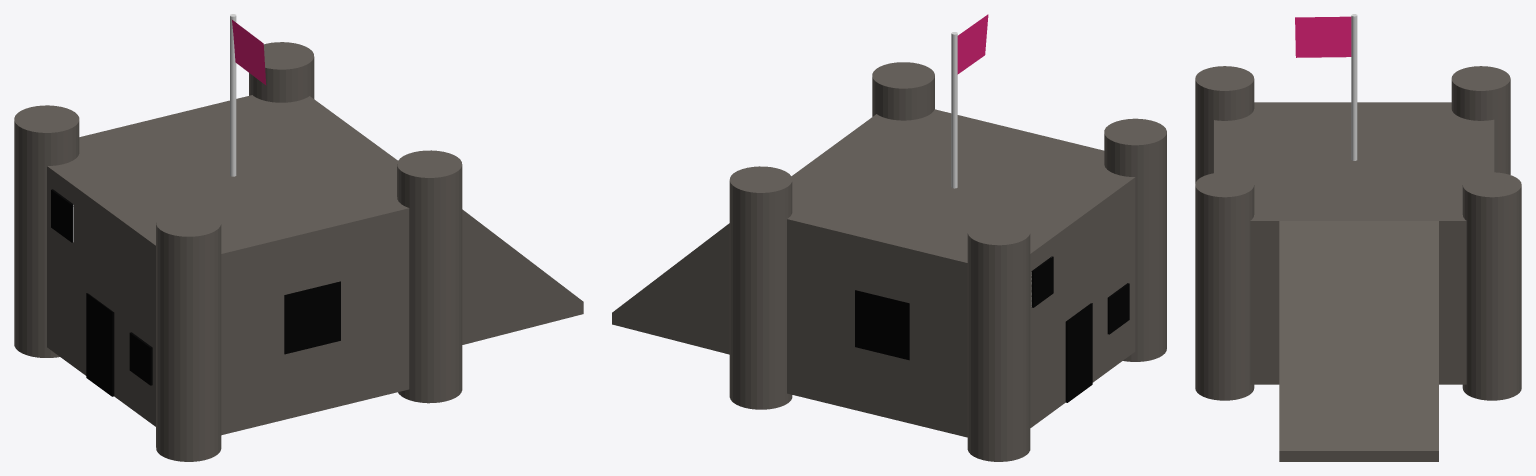
3 views of the same model, side by side, from view 1: azimuth 30°, elevation 25°; view 2: azimuth 150°, elevation 25°; view 3: azimuth 270°, elevation 25° (orthographic). The views are drawn at different scales.
Parts seen in each view (by area): view 1: Cube.003; view 2: Cube.003; view 3: Cube.003.
Boxes of the visible parts, <box> form: Cube.003: <box>14,14,583,461</box>; Cube.003: <box>612,14,1166,461</box>; Cube.003: <box>1195,14,1521,461</box>.
Size of the model in its own units: 1605 by 1190 by 1107.
